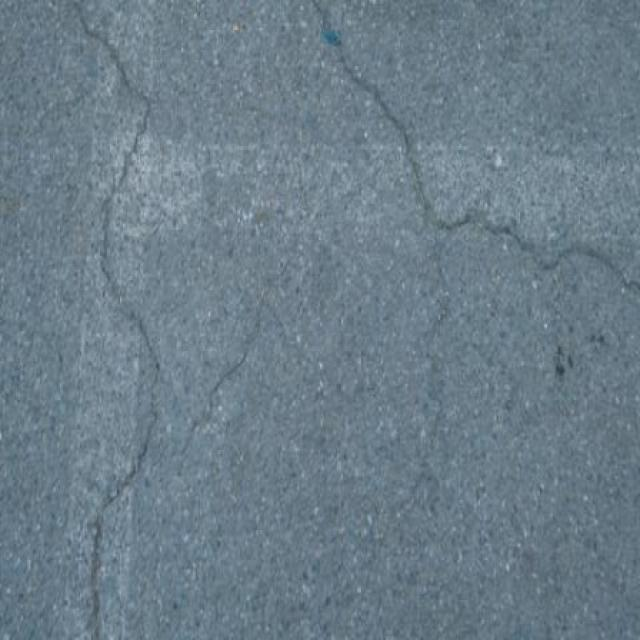Diagonal Crack: (302, 5, 640, 611), (58, 1, 180, 640), (168, 288, 278, 505), (7, 60, 100, 193)
